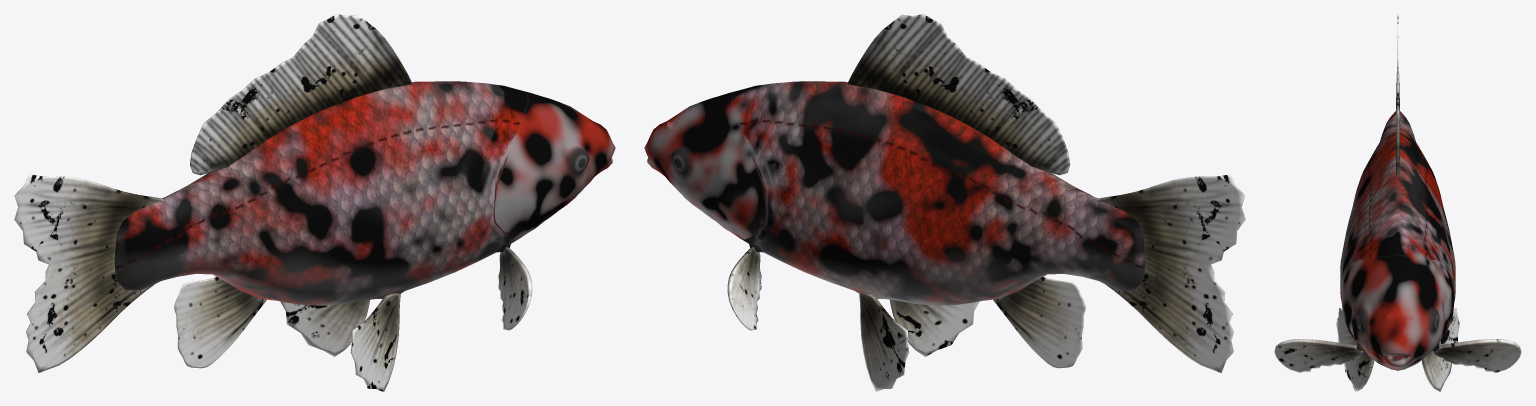
File: shubunkin-packed-v1.glb
The picture shows the model from 3 angles, left to right: view 1: azimuth 30°, elevation 25°; view 2: azimuth 150°, elevation 25°; view 3: azimuth 270°, elevation 25°; orthographic projection. The views are drawn at different scales.
Parts seen in each view (by area): view 1: SW_shubunkin_body, SW_shubunkin_fin_caudal, SW_shubunkin_fin_dorsal, SW_shubunkin_finRear, SW_shubunkin_fin_pelvic_R, SW_shubunkin_fin_pelvic_L, SW_shubunkin_fin_pectoral_R; view 2: SW_shubunkin_body, SW_shubunkin_fin_caudal, SW_shubunkin_fin_dorsal, SW_shubunkin_finRear, SW_shubunkin_fin_pelvic_L, SW_shubunkin_fin_pelvic_R, SW_shubunkin_fin_pectoral_L; view 3: SW_shubunkin_body, SW_shubunkin_fin_pectoral_L, SW_shubunkin_fin_pectoral_R, SW_shubunkin_fin_pelvic_L, SW_shubunkin_fin_pelvic_R, SW_shubunkin_fin_dorsal, SW_shubunkin_fin_caudal.
Boxes of the visible parts, box(x1,y1,x2,y2) form: SW_shubunkin_body: box(114, 81, 615, 305); SW_shubunkin_fin_caudal: box(14, 174, 164, 372); SW_shubunkin_fin_dorsal: box(190, 14, 412, 175); SW_shubunkin_finRear: box(174, 277, 266, 368); SW_shubunkin_fin_pelvic_R: box(350, 293, 400, 391); SW_shubunkin_fin_pelvic_L: box(280, 299, 369, 356); SW_shubunkin_fin_pectoral_R: box(498, 247, 532, 330); SW_shubunkin_body: box(644, 81, 1145, 305); SW_shubunkin_fin_caudal: box(1095, 174, 1245, 372); SW_shubunkin_fin_dorsal: box(847, 14, 1069, 175); SW_shubunkin_finRear: box(993, 277, 1085, 368); SW_shubunkin_fin_pelvic_L: box(859, 293, 909, 391); SW_shubunkin_fin_pelvic_R: box(890, 299, 979, 356); SW_shubunkin_fin_pectoral_L: box(727, 247, 761, 330); SW_shubunkin_body: box(1340, 111, 1455, 370); SW_shubunkin_fin_pectoral_L: box(1433, 339, 1521, 372); SW_shubunkin_fin_pectoral_R: box(1274, 339, 1362, 372); SW_shubunkin_fin_pelvic_L: box(1421, 308, 1459, 391); SW_shubunkin_fin_pelvic_R: box(1336, 308, 1374, 391); SW_shubunkin_fin_dorsal: box(1396, 66, 1399, 175); SW_shubunkin_fin_caudal: box(1396, 14, 1399, 119).
Size of the model in its own units: 2.2 by 1.28 by 0.9182.
1 material, 1 textured.
